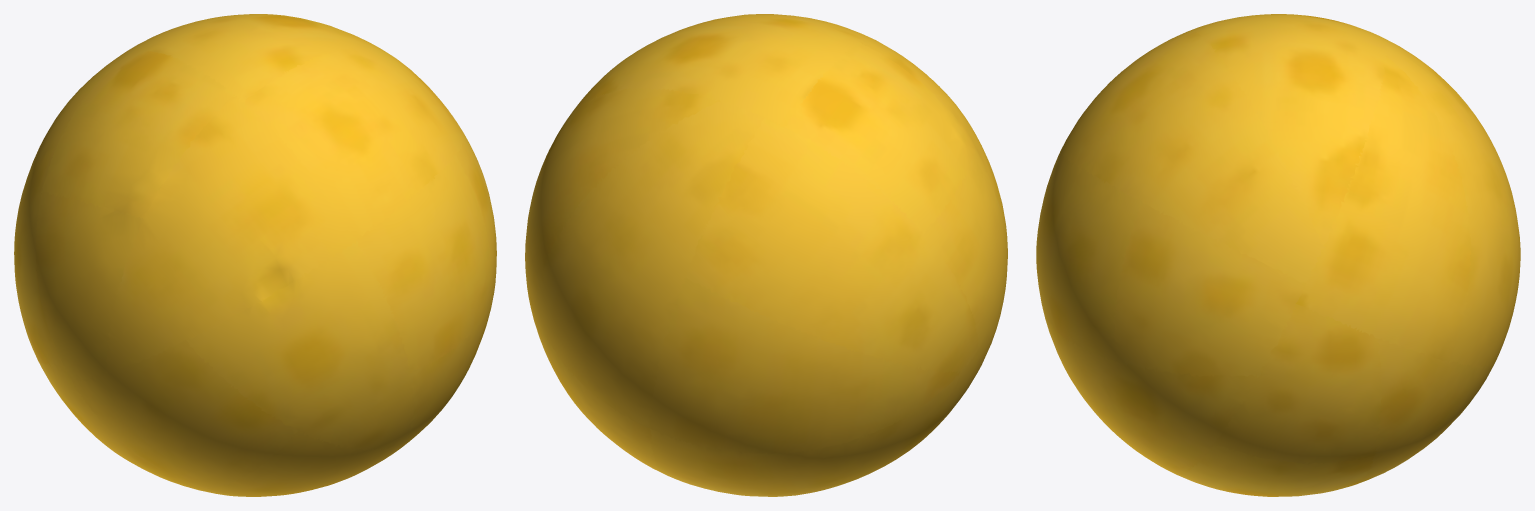
Rendered from poplur_sun_lite.glb.
3 renders of one model, left to right at view 1: azimuth 30°, elevation 25°; view 2: azimuth 150°, elevation 25°; view 3: azimuth 270°, elevation 25°, orthographic.
Bounding box in the file's own units: 1.9 × 1.9 × 1.9.
1 material, 1 textured.
